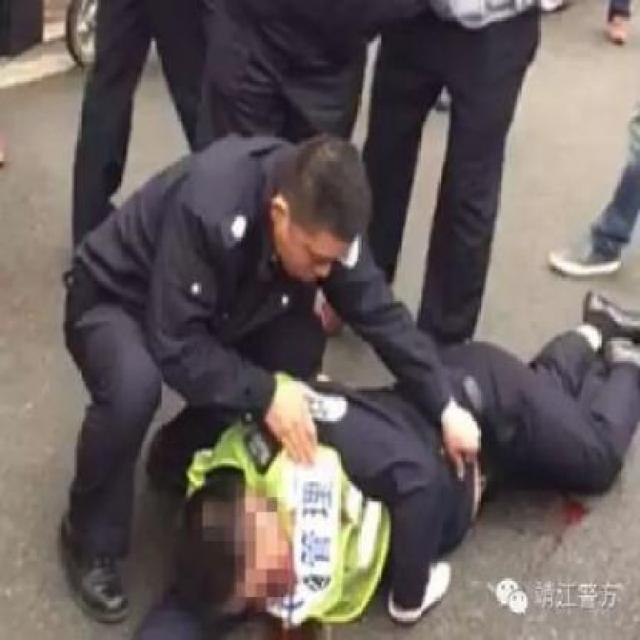fall: (123, 289, 639, 633)
